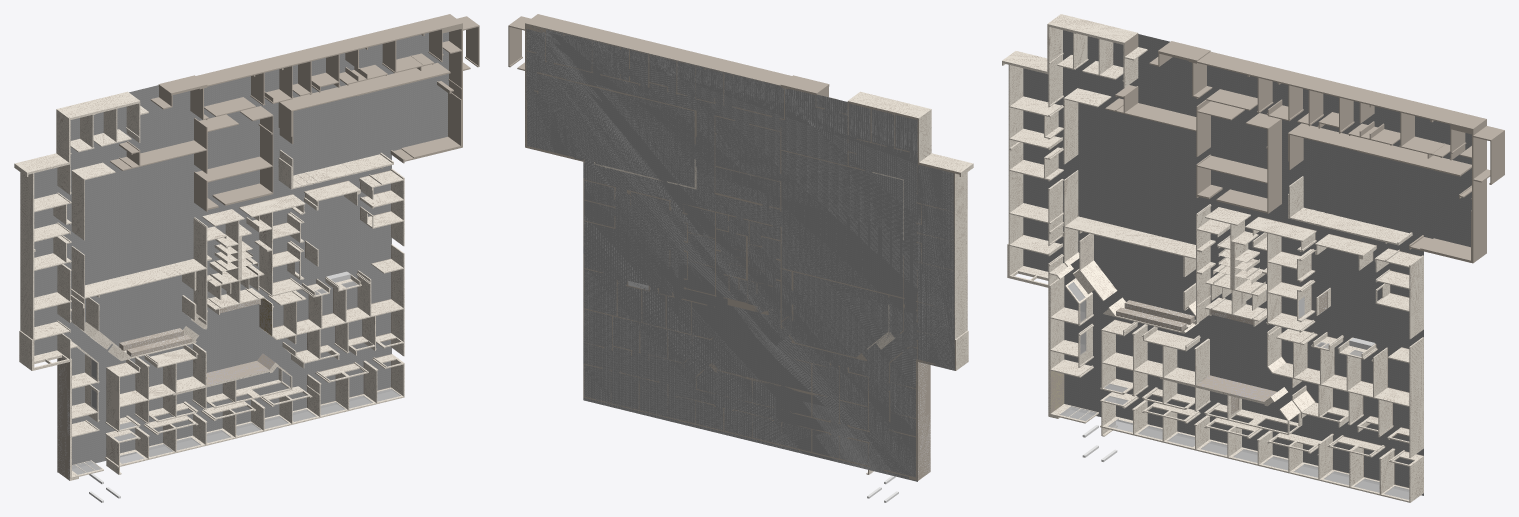
The model's file is willowgarage.glb.
The picture shows the model from 3 angles, left to right: view 1: azimuth 30°, elevation 25°; view 2: azimuth 150°, elevation 25°; view 3: azimuth 330°, elevation 25°; orthographic projection. The views are drawn at different scales.
Visible parts, largest first — view 1: SketchUp, instance_0.021, instance_0.006, instance_0.052, instance_0.041, instance_0.038, instance_0.032, instance_0.023, instance_0.036, instance_0.004, instance_0.005, instance_0.002 (+11 smaller); view 2: SketchUp, instance_0.006, instance_0.021, instance_0.022, instance_0.195, instance_0.001, instance_0, instance_0.013; view 3: SketchUp, instance_0.021, instance_0.006, instance_0.052, instance_0.041, instance_0.038, instance_0.032, instance_0.023, instance_0.036, instance_0.004, instance_0.005, instance_0.002 (+12 smaller).
Boxes of the visible parts, x1,y1,x2,y2 form: SketchUp: (34, 32, 448, 472); instance_0.021: (14, 91, 148, 480); instance_0.006: (150, 14, 479, 163); instance_0.052: (264, 244, 404, 368); instance_0.041: (105, 354, 404, 474); instance_0.038: (105, 343, 292, 431); instance_0.032: (70, 217, 207, 333); instance_0.023: (202, 209, 264, 314); instance_0.036: (239, 194, 305, 296); instance_0.004: (194, 106, 273, 211); instance_0.005: (278, 62, 450, 144); instance_0.002: (110, 114, 238, 173); SketchUp: (525, 24, 954, 481); instance_0.006: (508, 14, 836, 163); instance_0.021: (848, 91, 973, 370); instance_0.022: (918, 362, 930, 480); instance_0.195: (847, 101, 960, 480); instance_0.001: (583, 363, 870, 474); instance_0: (583, 253, 714, 367); instance_0.013: (723, 218, 772, 314); SketchUp: (1023, 30, 1471, 495); instance_0.021: (1002, 14, 1147, 423); instance_0.006: (1149, 41, 1504, 263); instance_0.052: (1267, 326, 1423, 458); instance_0.041: (1100, 392, 1423, 502); instance_0.038: (1100, 320, 1302, 434); instance_0.032: (1062, 170, 1211, 324); instance_0.023: (1205, 207, 1266, 326); instance_0.036: (1245, 217, 1316, 332); instance_0.004: (1196, 113, 1281, 213); instance_0.005: (1288, 123, 1471, 176); instance_0.002: (1105, 85, 1244, 156).
Bounding box in the file's own units: 58.63 × 48.62 × 2.84.
21 materials, 1 textured.
